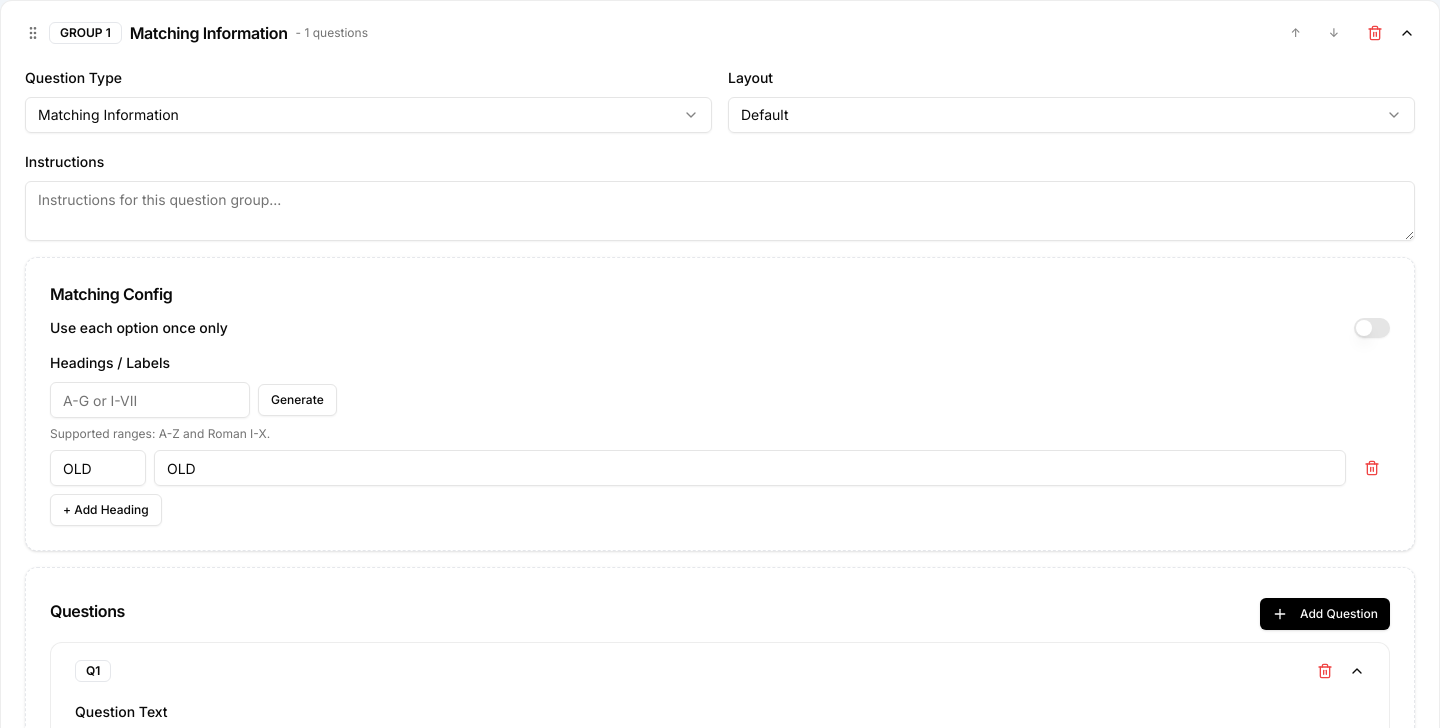
Scenario: QuestionGroup matching range generator › shows inline warning and does not mutate when range is invalid
The image size is (1440, 728).
Type "VII-I" into the field with placeholder "A-G or I-VII" at (150, 400), box [50,382,250,418]
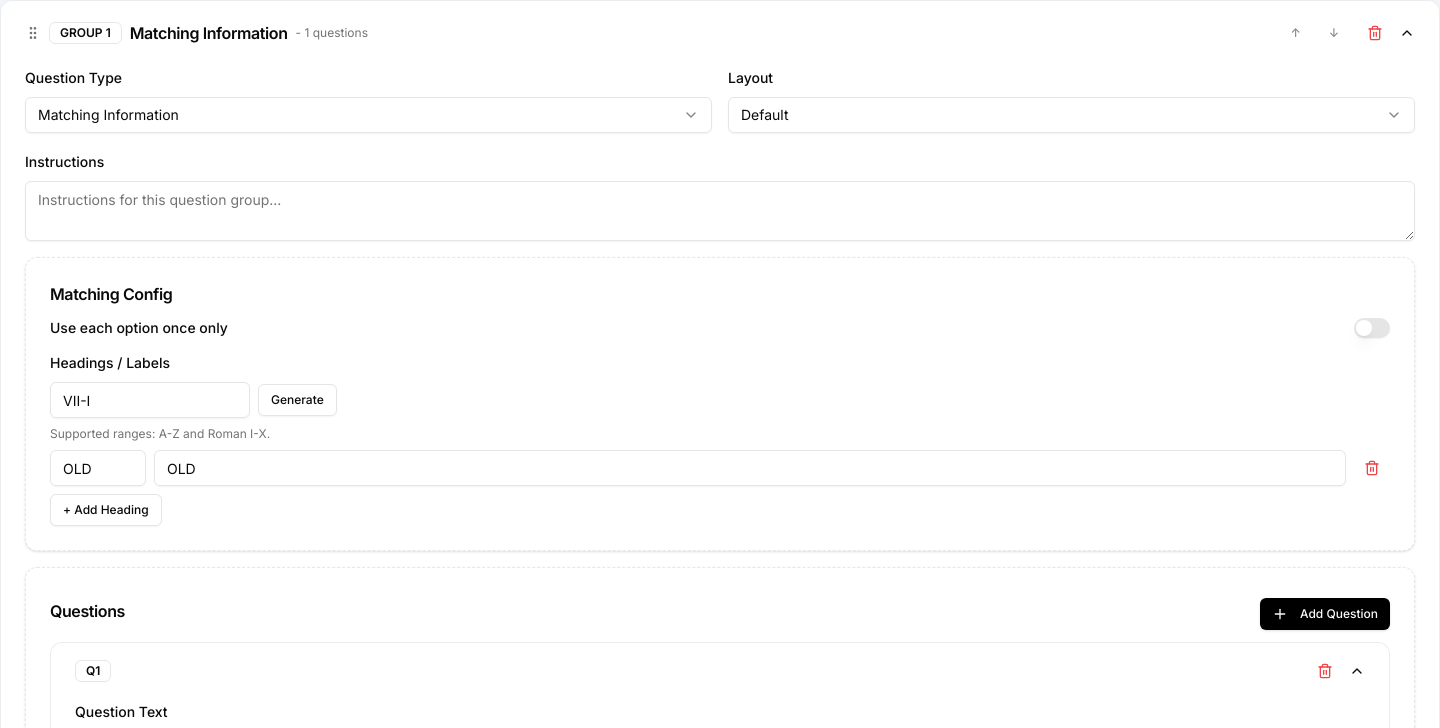
Click the button "Generate" at (297, 400), box [258,384,337,416]
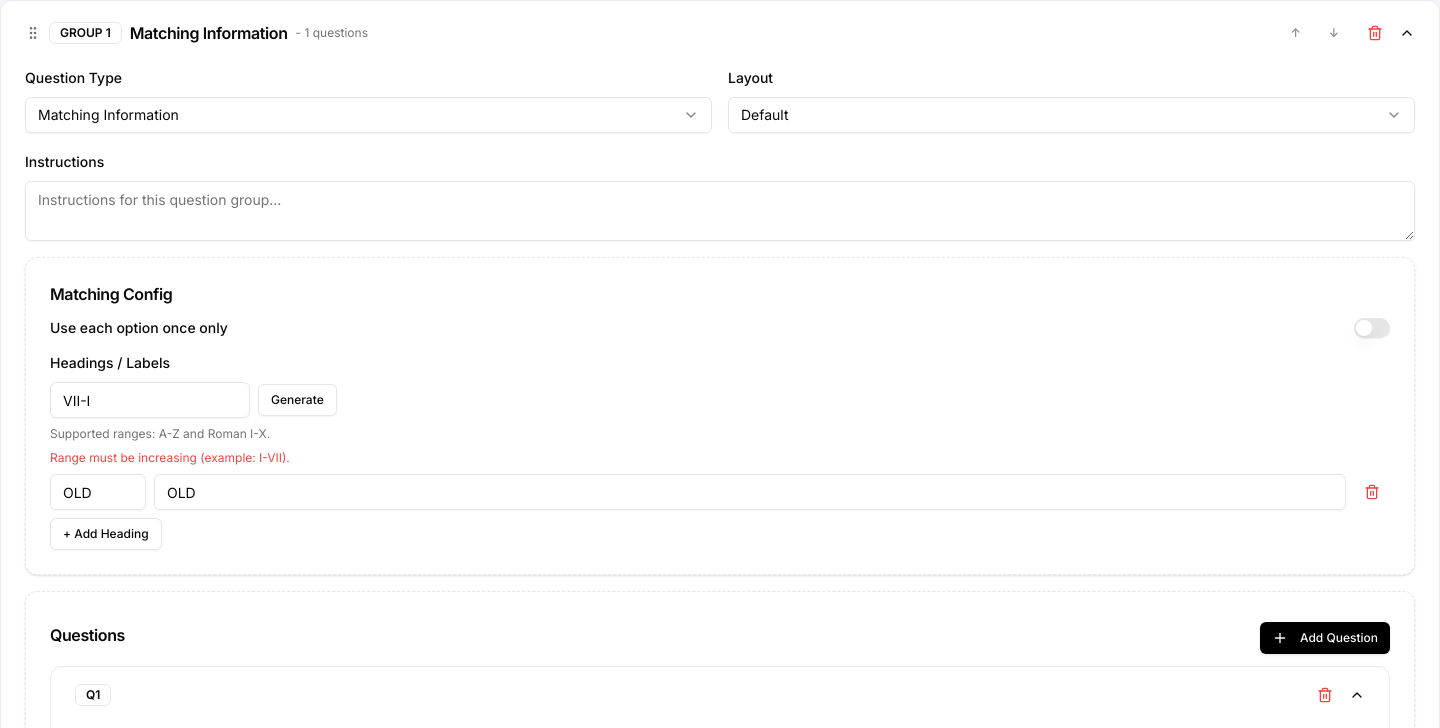
expect the text "Range must be increasing (example: I-VII)." is shown: met, box [50,450,290,465]
